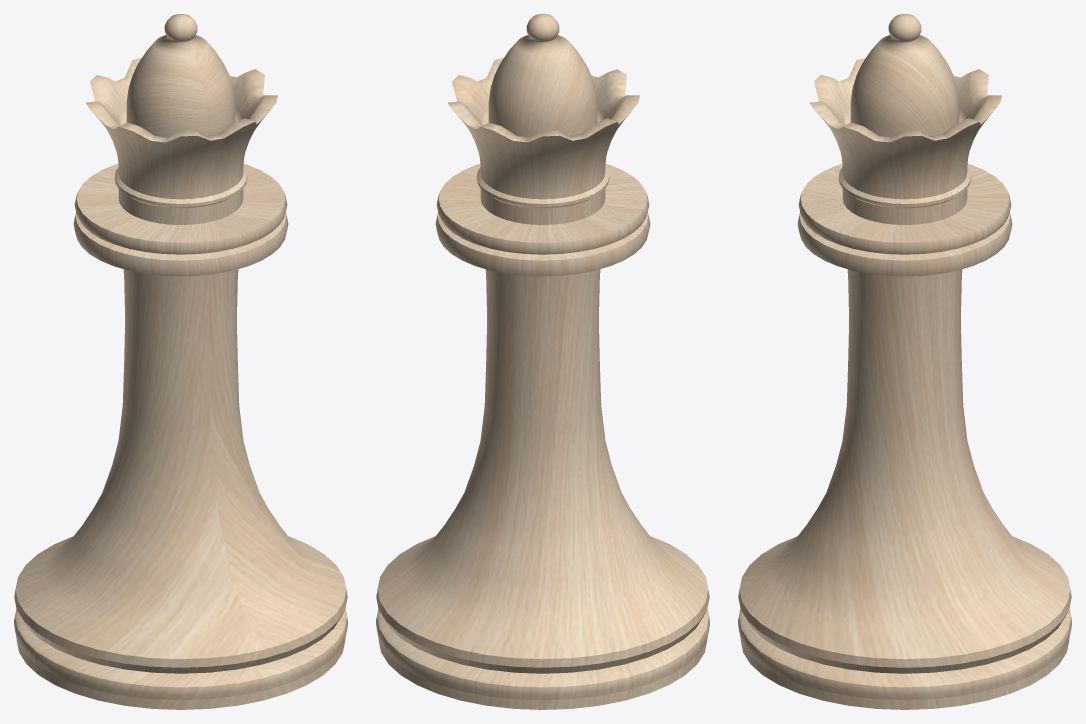
Rendered from queen.glb.
3 renders of one model, left to right at view 1: azimuth 30°, elevation 25°; view 2: azimuth 150°, elevation 25°; view 3: azimuth 270°, elevation 25°, orthographic.
Visible parts, largest first — view 1: Object005_02 - Default_0; view 2: Object005_02 - Default_0; view 3: Object005_02 - Default_0.
Boxes of the visible parts, x1,y1,x2,y2 form: Object005_02 - Default_0: (14, 14, 347, 709); Object005_02 - Default_0: (376, 14, 709, 709); Object005_02 - Default_0: (738, 14, 1071, 709).
Bounding box in the file's own units: 0.0169 × 0.0349 × 0.0169.
Materials: 1 (1 with a texture image).
